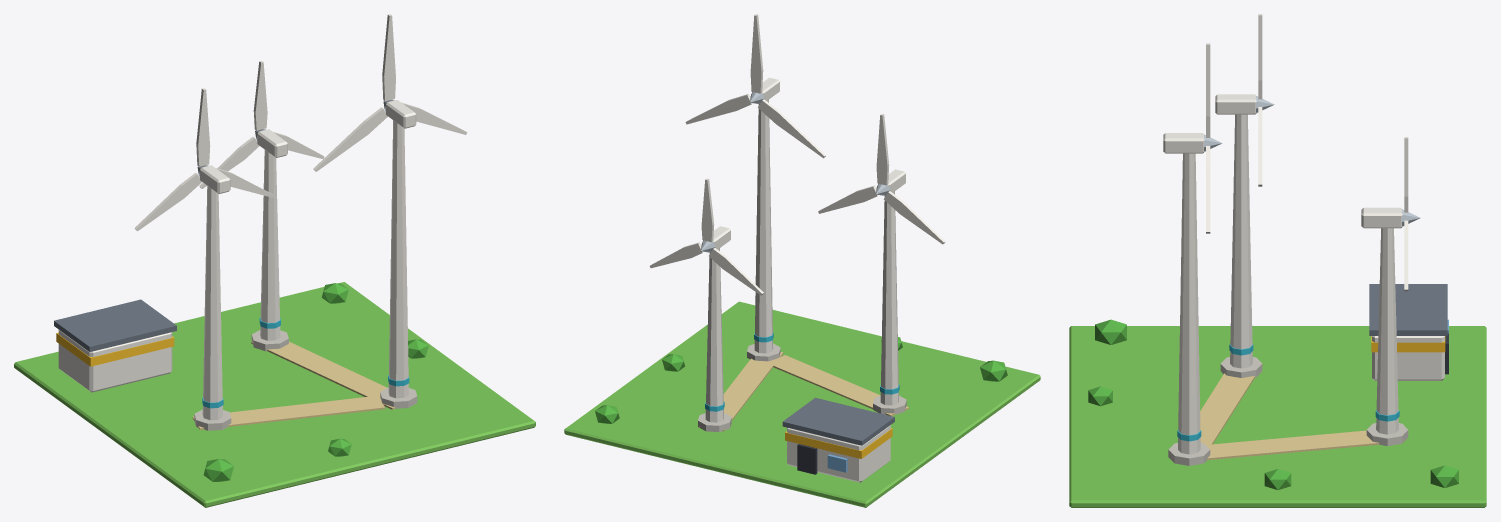
File: wind_farm.glb
The picture shows the model from 3 angles, left to right: view 1: azimuth 30°, elevation 25°; view 2: azimuth 150°, elevation 25°; view 3: azimuth 270°, elevation 25°; orthographic projection. The views are drawn at different scales.
Visible parts, largest first — view 1: corpo, pas_1.001, pas_2.001, pas_3.001; view 2: corpo, pas_1.001, pas_2.001, pas_3.001; view 3: corpo, pas_1.001, pas_2.001, pas_3.001.
Boxes of the visible parts, x1,y1,x2,y2 form: corpo: (14, 100, 535, 507); pas_1.001: (313, 14, 467, 171); pas_2.001: (134, 88, 273, 231); pas_3.001: (199, 60, 324, 188); corpo: (564, 77, 1040, 507); pas_1.001: (685, 14, 825, 158); pas_2.001: (818, 114, 945, 244); pas_3.001: (649, 178, 763, 295); corpo: (1069, 94, 1486, 507); pas_1.001: (1204, 43, 1222, 233); pas_2.001: (1256, 14, 1274, 186); pas_3.001: (1402, 137, 1420, 291).
Bounding box in the file's own units: 4 × 4.45 × 4.
